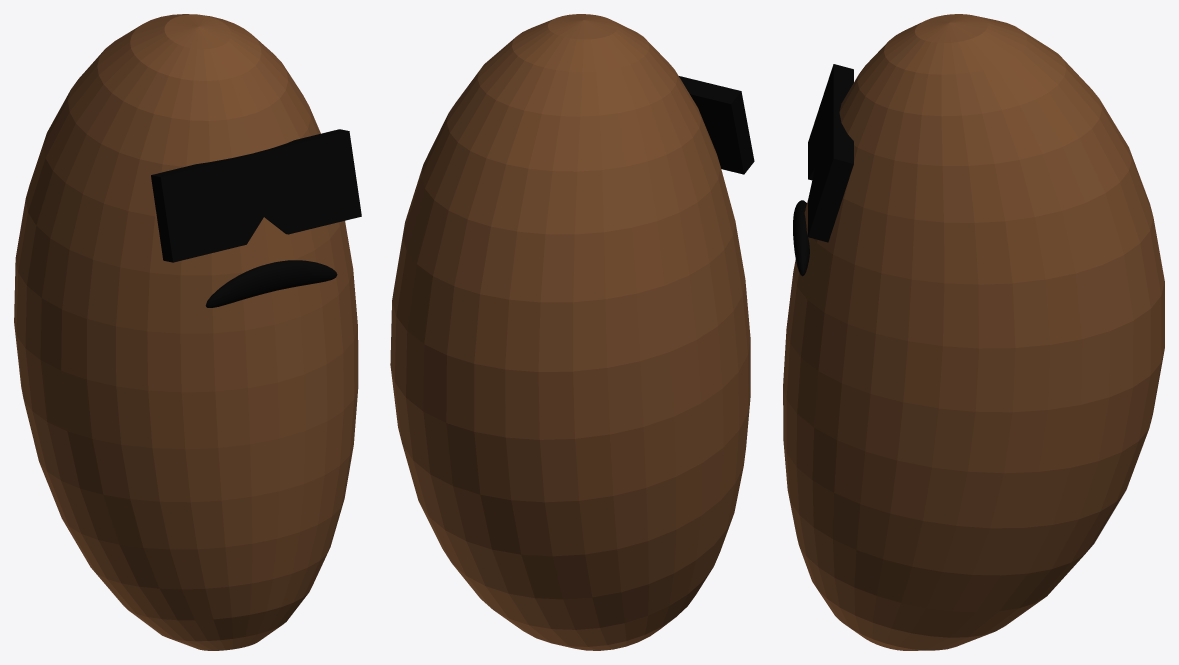
The model's file is cool bean2.fbx.
3 renders of one model, left to right at view 1: azimuth 30°, elevation 25°; view 2: azimuth 150°, elevation 25°; view 3: azimuth 270°, elevation 25°, orthographic. The views are drawn at different scales.
Parts seen in each view (by area): view 1: Cube; view 2: Cube; view 3: Cube.
Boxes of the visible parts, x1,y1,x2,y2 form: Cube: [14, 14, 361, 650]; Cube: [390, 14, 754, 650]; Cube: [783, 14, 1164, 650].
Size of the model in its own units: 96.18 by 190 by 106.
